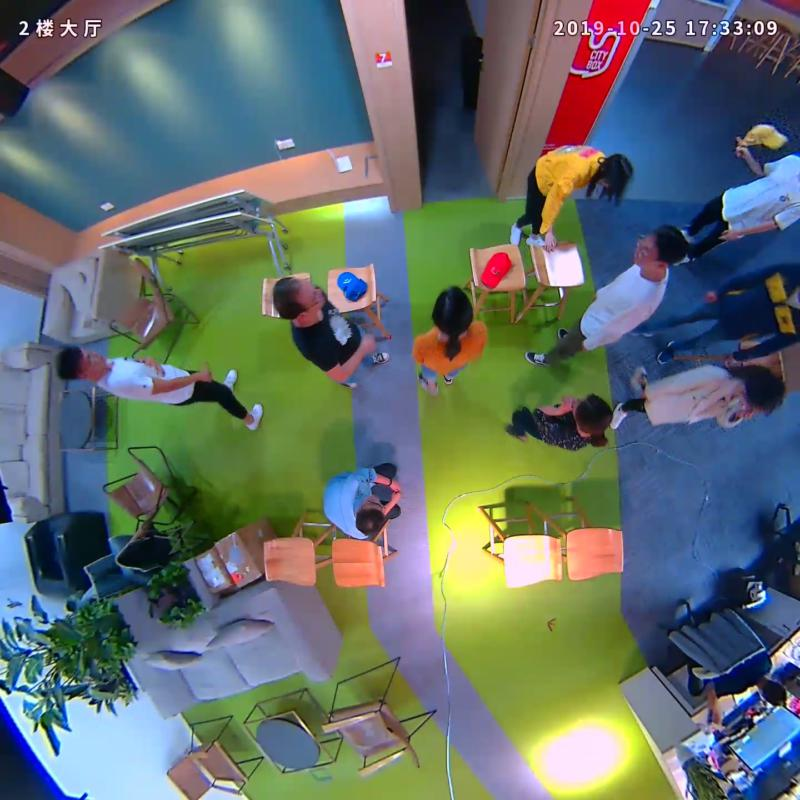head: (729, 357, 800, 426), (422, 279, 487, 343), (53, 337, 118, 395), (628, 222, 690, 278), (565, 386, 627, 439), (269, 272, 329, 326), (592, 149, 642, 196), (349, 500, 399, 539)
